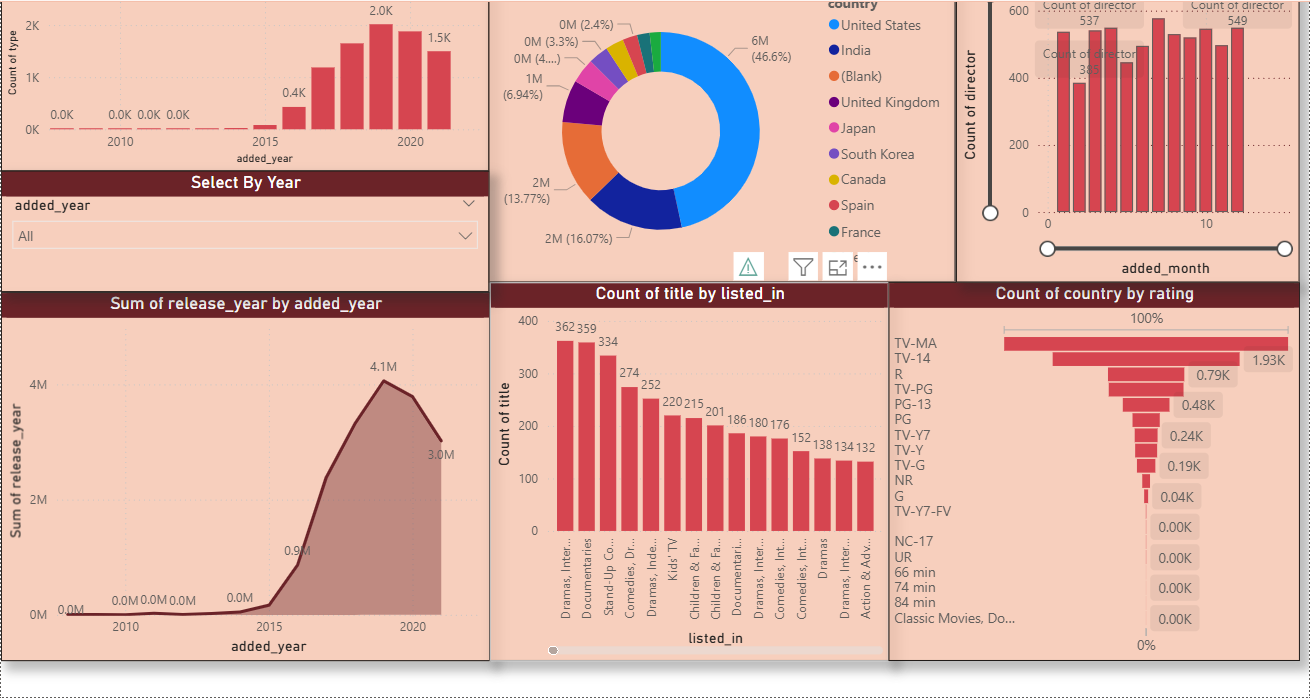

The page's visual inventory and layout, read from the dashboard file:
{"tool":"powerbi","page":{"name":"Page 1","canvas":[1280,720],"ordinal":0},"visuals":[{"type":"columnChart","fields":{"Category":["netflix_titles.added_year"],"Y":["CountNonNull(netflix_titles.type)"]},"box":[0,0,477.5,205.8],"z":0},{"type":"lineChart","fields":{"Category":["netflix_titles.added_year"],"Y":["Sum(netflix_titles.release_year)"]},"box":[0,324.1,478.1,360.7],"z":1},{"type":"donutChart","fields":{"Category":["netflix_titles.country"],"Y":["Sum(netflix_titles.release_year)"]},"box":[477,0,457,314],"z":2},{"type":"columnChart","fields":{"Category":["netflix_titles.listed_in"],"Y":["CountNonNull(netflix_titles.title)"]},"box":[477.5,314.2,391.1,370.5],"z":3},{"type":"funnel","fields":{"Category":["netflix_titles.rating"],"Y":["CountNonNull(netflix_titles.country)"]},"box":[868.2,314.3,402.3,370.5],"z":4},{"type":"clusteredColumnChart","fields":{"Y":["CountNonNull(netflix_titles.director)"],"Category":["netflix_titles.added_month"]},"box":[934,0,336,314],"z":5},{"type":"slicer","title":"Select By Year","fields":{"Values":["netflix_titles.added_year"]},"box":[0,205.8,477.5,118],"z":6}]}

Visuals, with their boxes in screenshot pixels (x1, y1, x2, y2):
columnChart - netflix_titles.added_year x CountNonNull(netflix_titles.type): bbox=(0, 0, 485, 168)
lineChart - netflix_titles.added_year x Sum(netflix_titles.release_year): bbox=(0, 289, 485, 661)
donutChart - netflix_titles.country x Sum(netflix_titles.release_year): bbox=(484, 0, 955, 279)
columnChart - netflix_titles.listed_in x CountNonNull(netflix_titles.title): bbox=(485, 279, 887, 661)
funnel - netflix_titles.rating x CountNonNull(netflix_titles.country): bbox=(887, 279, 1301, 661)
clusteredColumnChart - CountNonNull(netflix_titles.director) x netflix_titles.added_month: bbox=(955, 0, 1301, 279)
"Select By Year" slicer: bbox=(0, 168, 485, 289)
